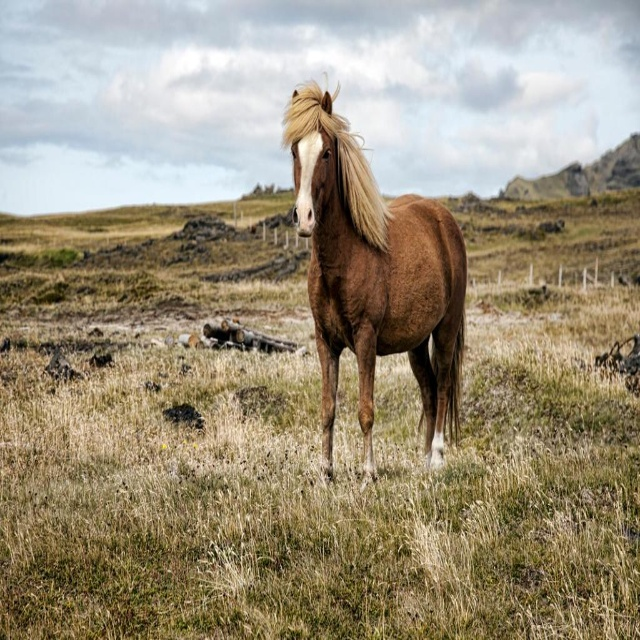Horse: (281, 69, 468, 497)
